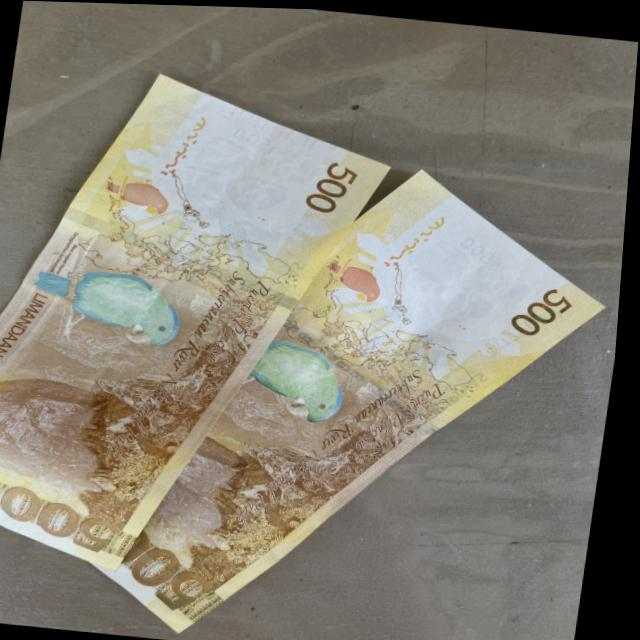500_big_parrot: (30, 262, 194, 348), (252, 332, 363, 425)
500_parrot_watermark: (98, 172, 183, 219), (327, 254, 393, 301)
value_watermark: (454, 232, 502, 262), (231, 125, 277, 150)
watermark: (179, 113, 319, 233), (402, 231, 540, 335)
